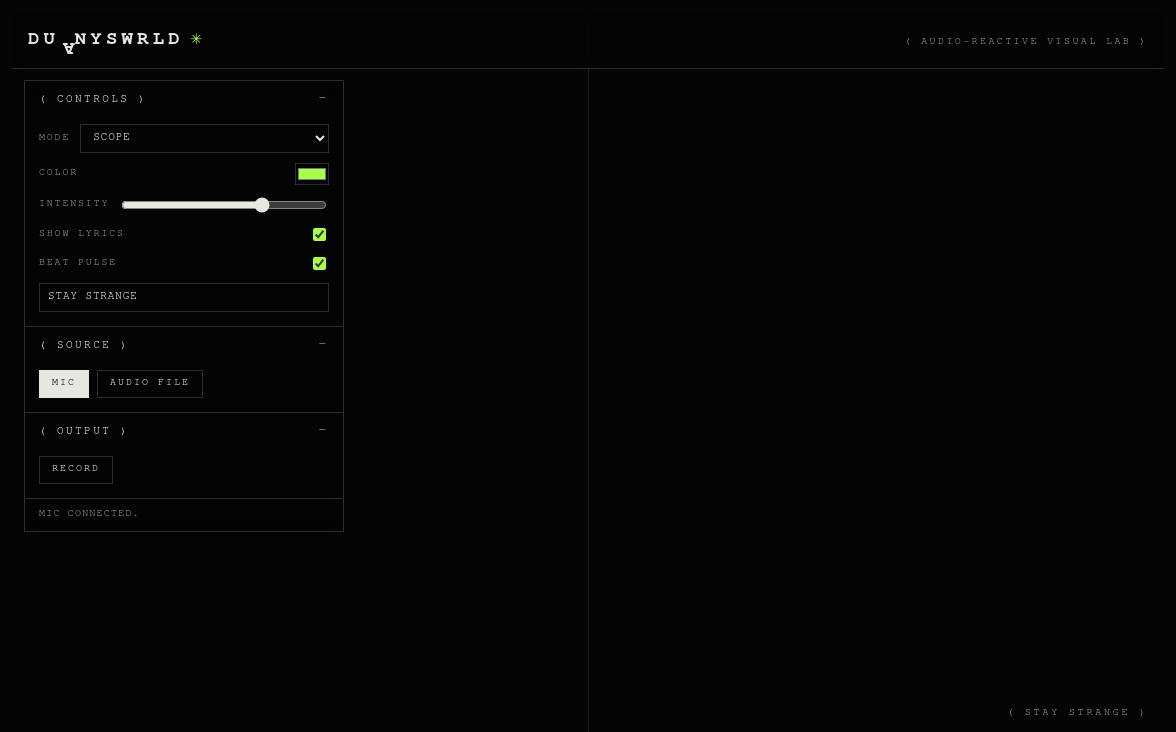
recording — happy path › starts, mixes in audio, then stops and offers a download
Click the button "Record": (76,470) top-left (39, 456), bottom-right (113, 484)
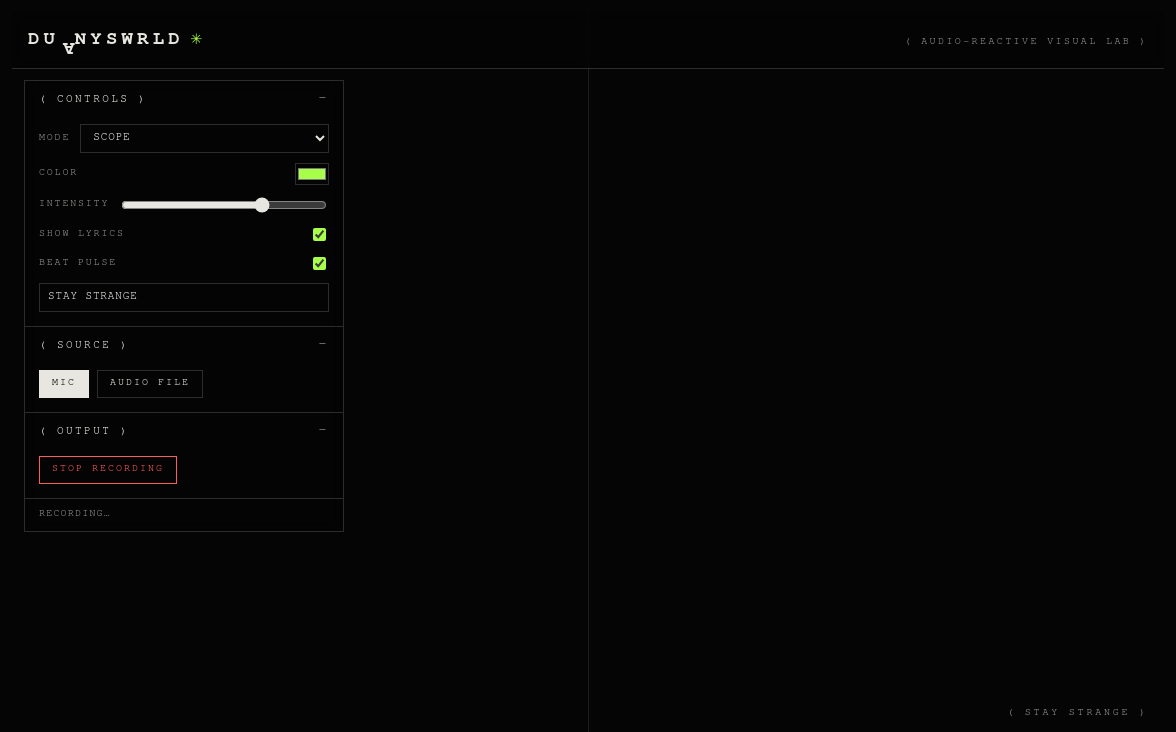
Expected: the message reads "Recording…", top-left (39, 510), bottom-right (111, 520)
Click the button "Stop recording": (108,470) top-left (39, 456), bottom-right (177, 484)
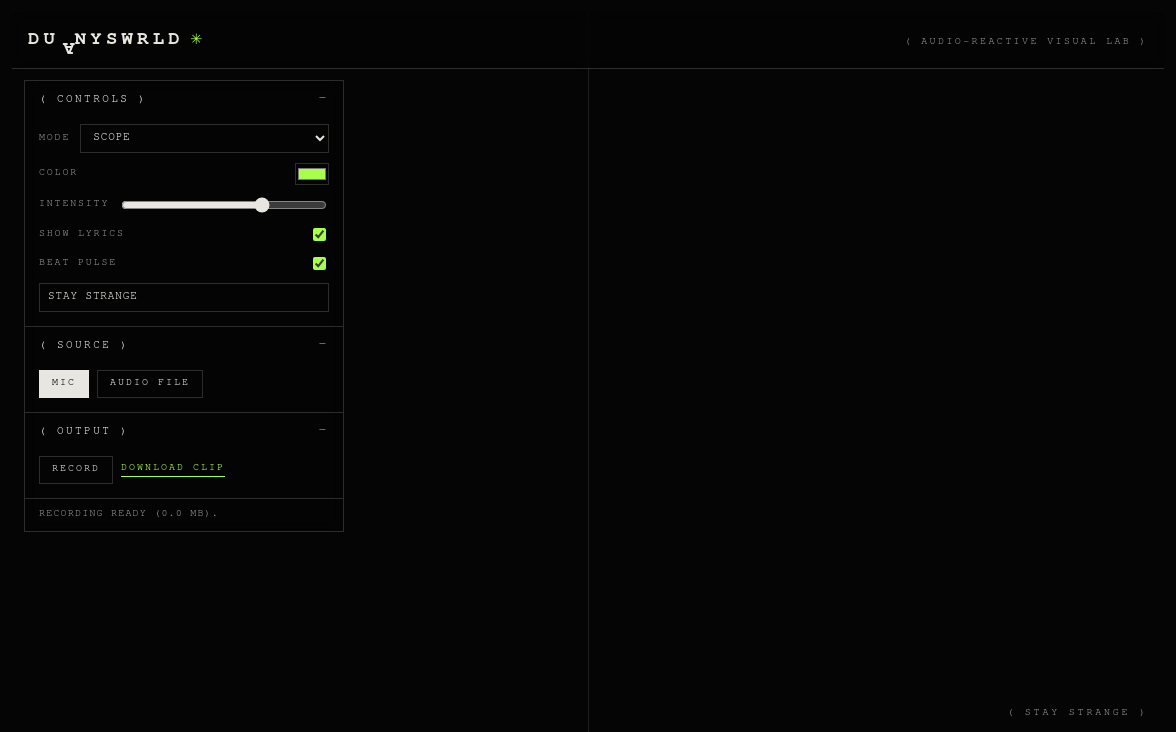
Expected: the button "Record" is shown, top-left (39, 456), bottom-right (113, 484)
Expected: the message shows "Recording ready", top-left (39, 510), bottom-right (219, 520)
